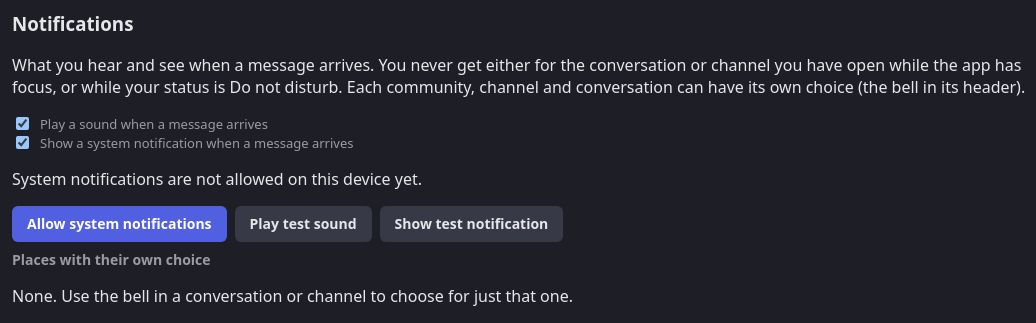
Test: Settings -> Notifications › the permission to show system notifications › offers to allow them when they are not allowed yet, and says so once they are
The width and height of the screenshot is (1036, 323).
Expected: the text "System notifications are not allowed on this device yet." is shown, x1=12 y1=168 x2=422 y2=190
Click the button "Allow system notifications" at (119, 224), box x1=12 y1=206 x2=227 y2=242
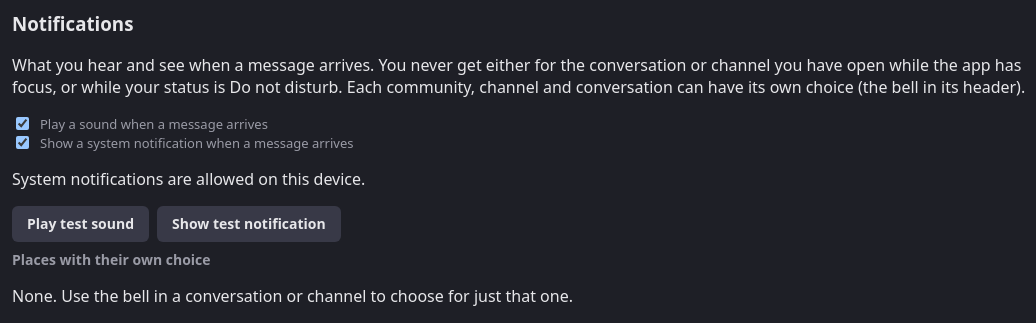
Now the text "System notifications are allowed on this device." is shown, box x1=12 y1=168 x2=365 y2=190
Now the button "Allow system notifications" is gone
